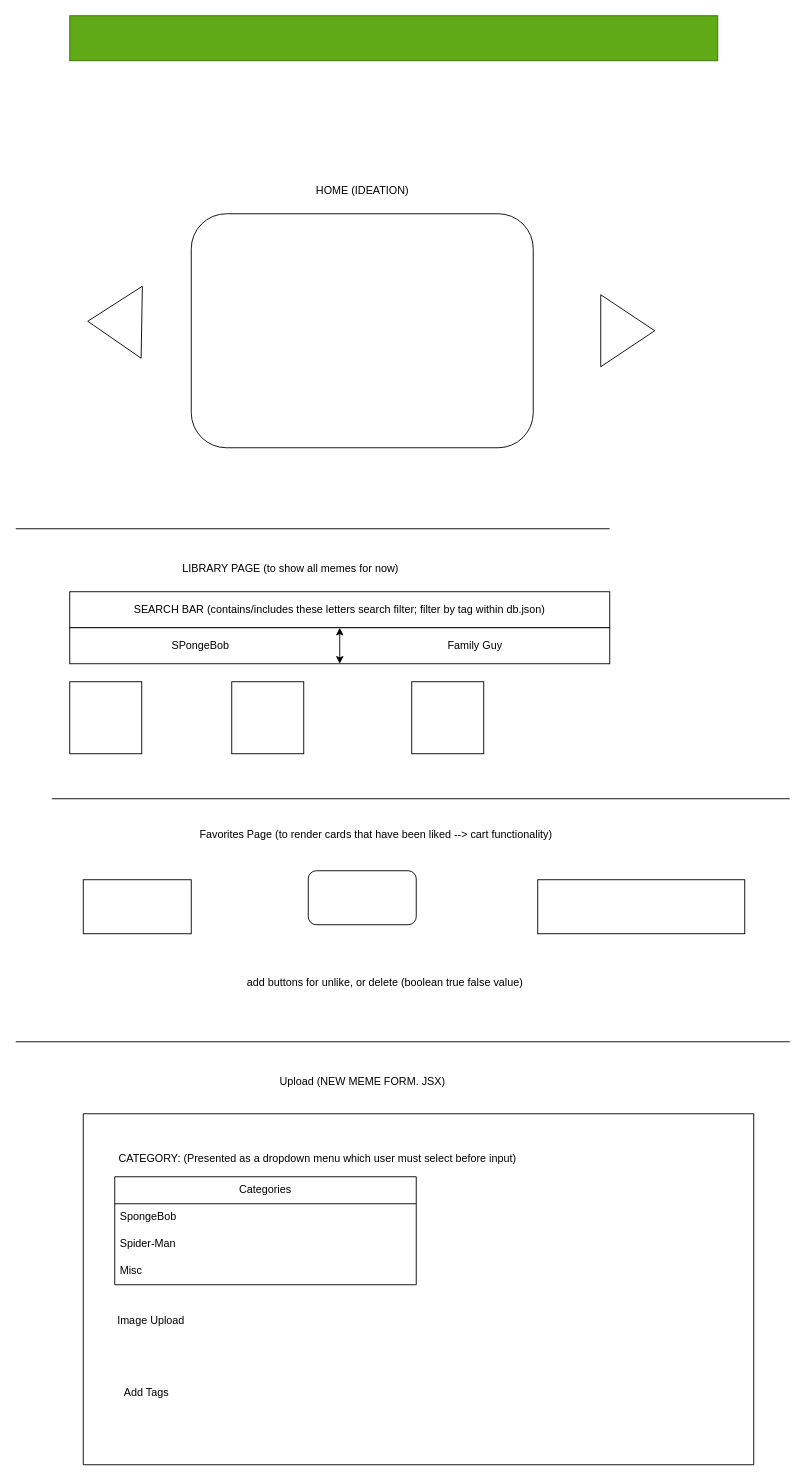
Image size: 806x1481. Some labels were removed from this diagram. The centre of each missing label's shape, as x and y in pixels:
"HOME || LIBRARY || FAVORITES || UPLOAD" goes at (393,38).
"MEME CAROUSEL (MVP = RANDOM, STRETCH GOAL = MEME CAROUSEL" goes at (361,330).
